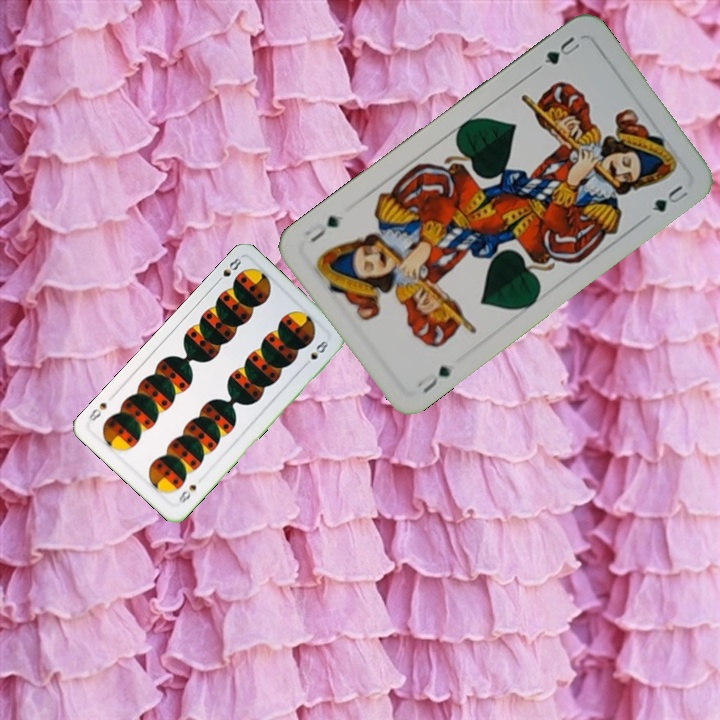GU: (540, 32, 583, 67), (413, 361, 455, 396)
S8: (211, 254, 244, 287), (175, 480, 199, 506)
